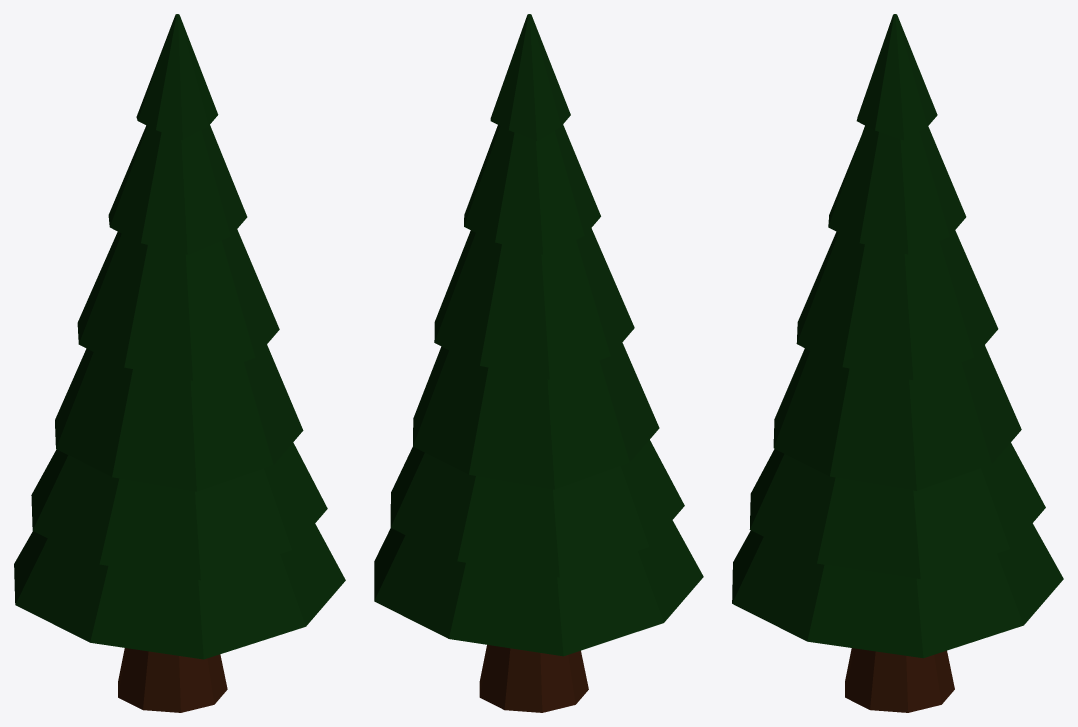
File: Tree2.FBX
3 views of the same model, side by side, from view 1: azimuth 30°, elevation 25°; view 2: azimuth 150°, elevation 25°; view 3: azimuth 270°, elevation 25° (orthographic).
Visible parts, largest first — view 1: Cylinder; view 2: Cylinder; view 3: Cylinder.
Part boxes in pixels (x1,y1,x2,y2): Cylinder: (14, 14, 345, 712); Cylinder: (374, 14, 703, 712); Cylinder: (732, 14, 1063, 712).
Bounding box in the file's own units: 231 × 512 × 228.
